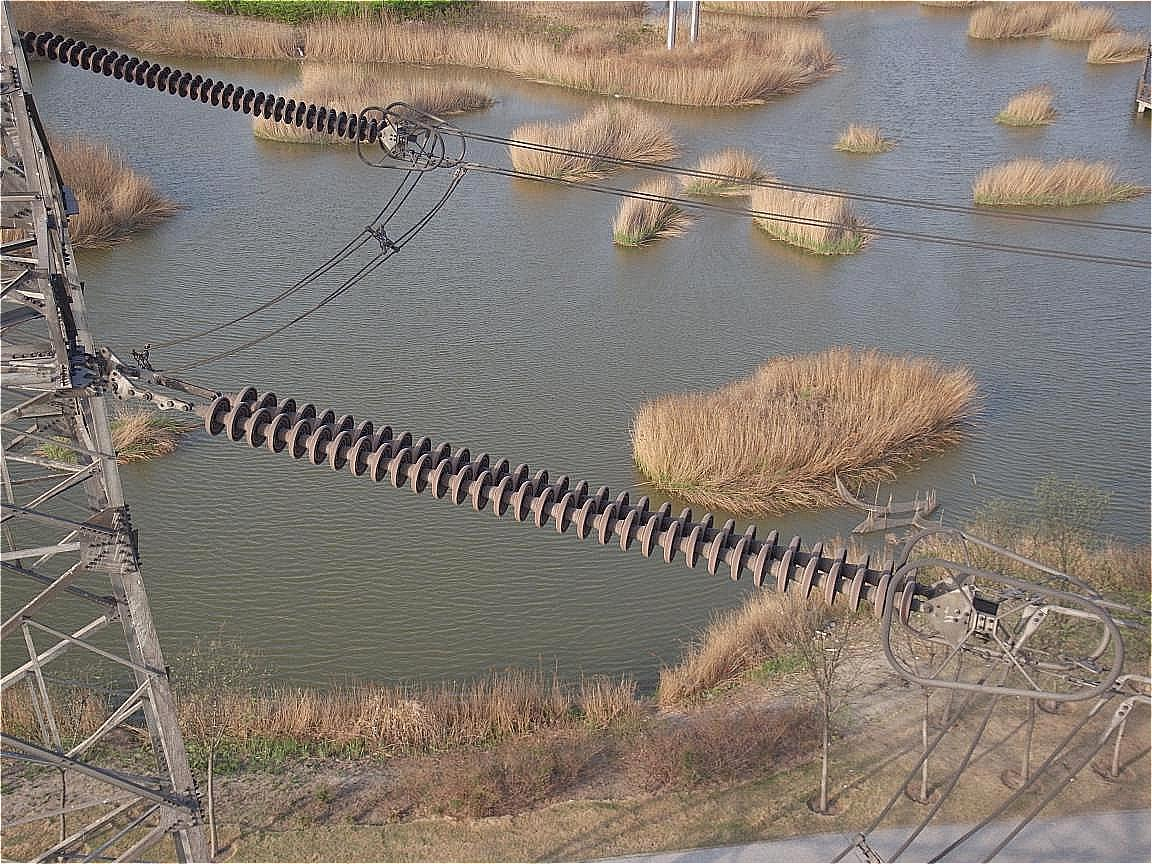insultor1: (207, 385, 920, 616), (26, 24, 383, 145)
